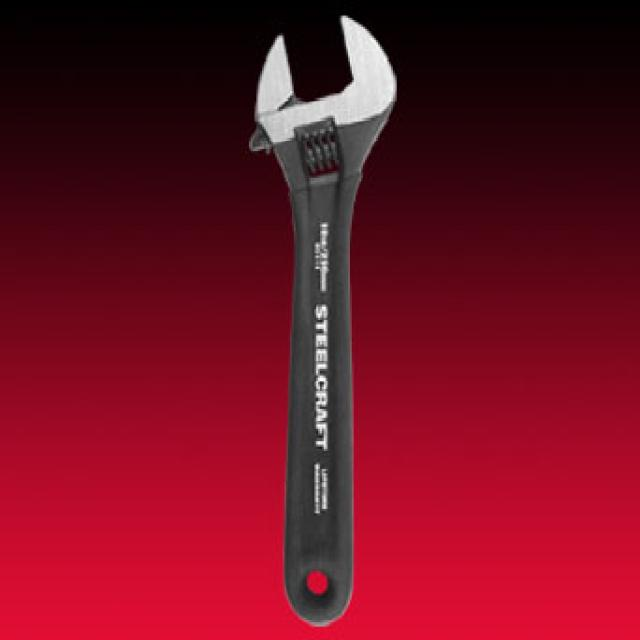wrench: (244, 8, 414, 638)
